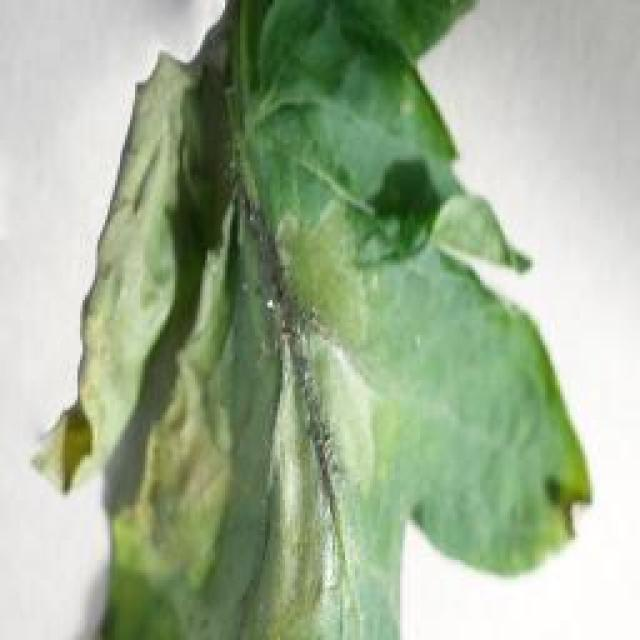Tomato Late Blight: (72, 42, 330, 630)
